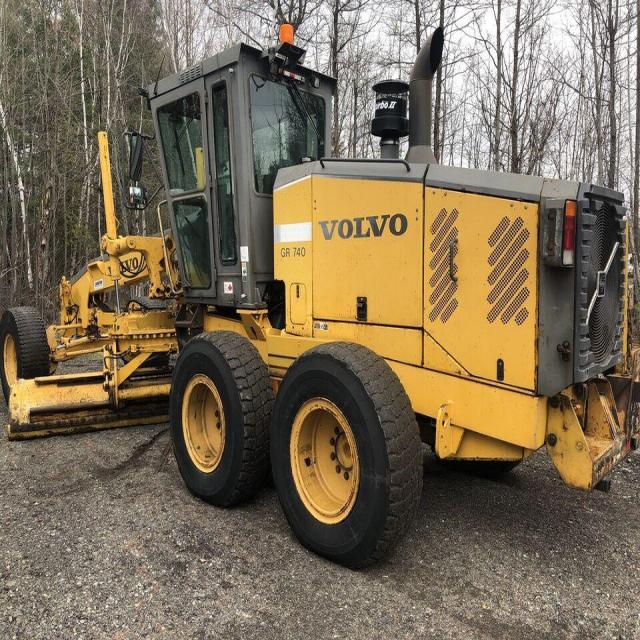Grader: (13, 30, 639, 564)
